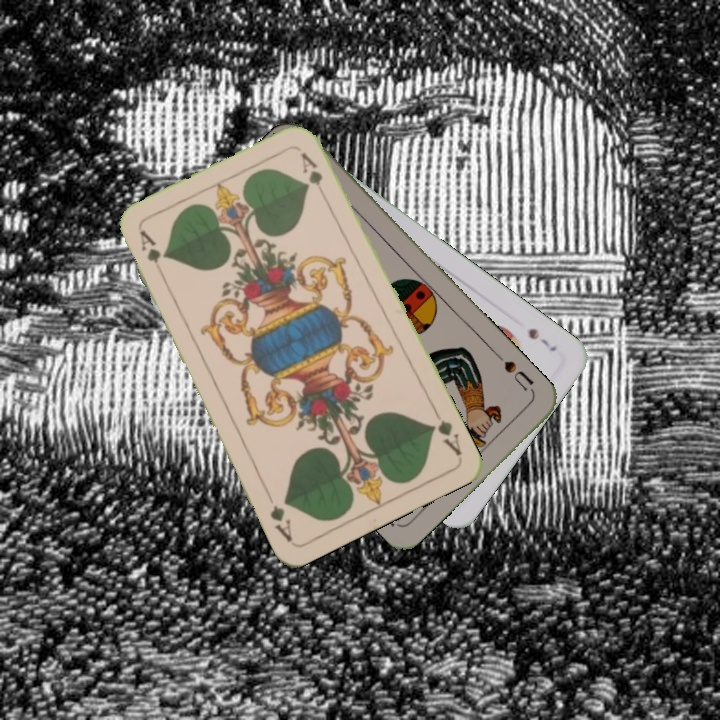GA: (426, 405, 465, 458), (135, 226, 168, 282)
S7: (524, 324, 559, 354)
SU: (500, 357, 538, 398)
